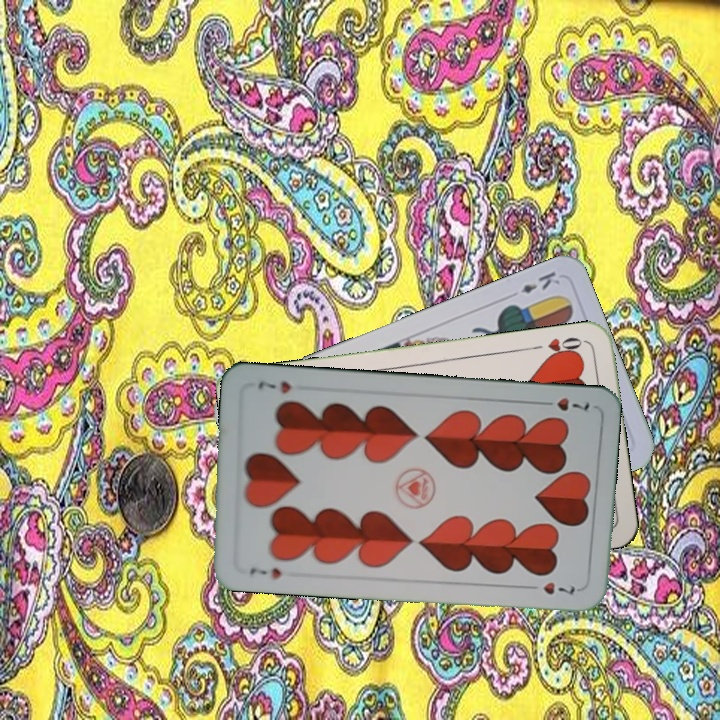EK: (516, 267, 563, 296)
H7: (535, 394, 592, 414), (246, 563, 284, 581)
HO: (528, 333, 587, 361)
